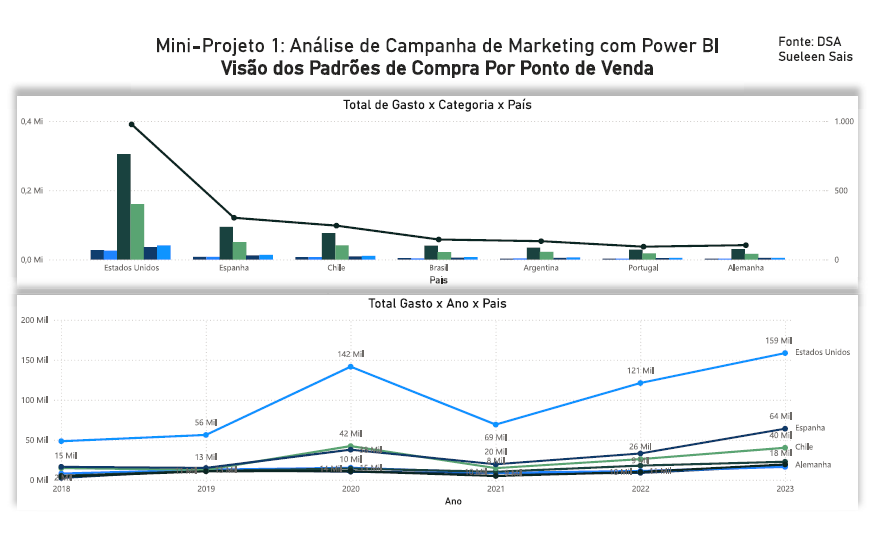

The page's visual inventory and layout, read from the dashboard file:
{"tool":"powerbi","page":{"name":"Visão Pontos de Venda","canvas":[1280,720],"ordinal":3},"visuals":[{"type":"textbox","box":[188.2,0,901.3,97.4],"z":0},{"type":"lineClusteredColumnComboChart","title":"Total de Gasto x Categoria x País","fields":{"Category":["DadosMarketing.Pais"],"Y":["Sum(DadosMarketing.Gasto com Alimentos)","Sum(DadosMarketing.Gasto com Brinquedos)","Sum(DadosMarketing.Gasto com Eletronicos)","Sum(DadosMarketing.Gasto com Moveis)","Sum(DadosMarketing.Gasto com Utilidades)","Sum(DadosMarketing.Gasto com Vestuario)"],"Y2":["CountNonNull(DadosMarketing.ID)"]},"box":[18.8,97.5,1238.8,283.8],"z":1000},{"type":"lineChart","title":"Total Gasto x Ano x Pais","fields":{"Series":["DadosMarketing.Pais"],"Y":["DadosMarketing.Total Gasto"],"Category":["DadosMarketing.Data Cadastro.Variation.Hierarquia de datas.Ano"]},"box":[19.4,391.4,1238.3,315.2],"z":2000},{"type":"textbox","box":[1136.2,0,121.2,57.5],"z":3000}]}

Visuals, with their boxes on the page's 1280x720 design canvas (x1, y1, x2, y2). These are canvas units, not pixel positions in the 873x536 screenshot, which may show the page scaled, cropped or inside an application window:
textbox: pyautogui.locateOnScreen(188, 0, 1090, 97)
"Total de Gasto x Categoria x País" lineClusteredColumnComboChart: pyautogui.locateOnScreen(19, 98, 1258, 381)
"Total Gasto x Ano x Pais" lineChart: pyautogui.locateOnScreen(19, 391, 1258, 707)
textbox: pyautogui.locateOnScreen(1136, 0, 1257, 58)
